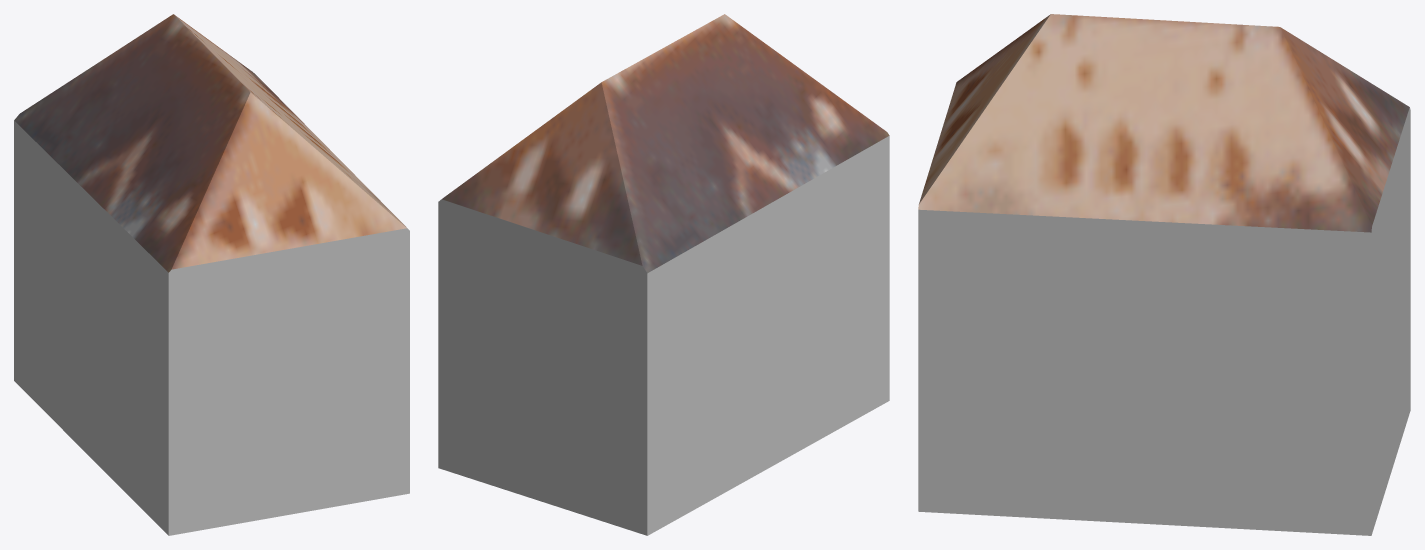
The model's file is DEBW_0010007Tx4y.gltf.
3 renders of one model, left to right at view 1: azimuth 30°, elevation 25°; view 2: azimuth 150°, elevation 25°; view 3: azimuth 270°, elevation 25°, orthographic. The views are drawn at different scales.
Visible parts, largest first — view 1: Z_UP; view 2: Z_UP; view 3: Z_UP.
Boxes of the visible parts, left/top/right/bottom form: Z_UP: left=14, top=14, right=409, bottom=535; Z_UP: left=438, top=14, right=889, bottom=535; Z_UP: left=918, top=14, right=1410, bottom=535.
Bounding box in the file's own units: 14 × 19.2 × 19.44.
2 materials, 1 textured.
